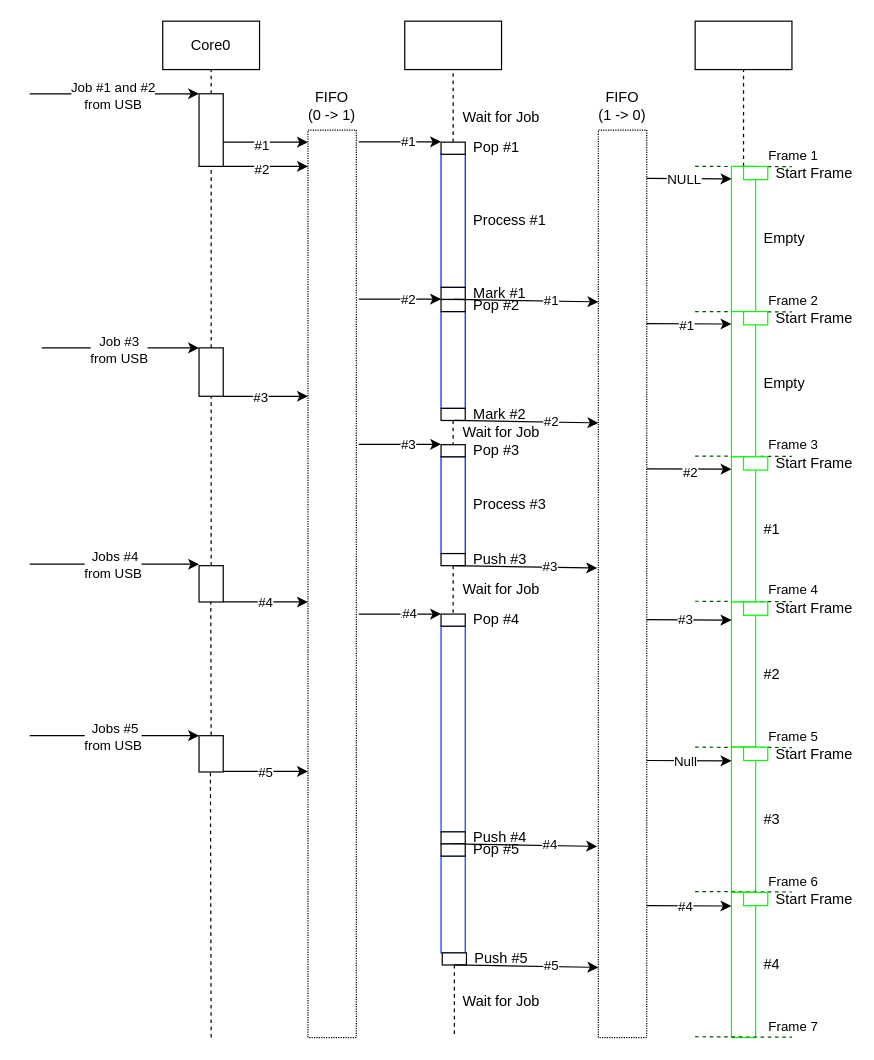
This 874x1060 diagram has some shape labels left out. Each missing label, with the centre of its shape:
"Core1" goes at point (453, 45).
"DAC" goes at point (743, 45).
"Process #2" goes at point (452, 359).
"Process #4" goes at point (452, 728).
"Process #5" goes at point (452, 904).
